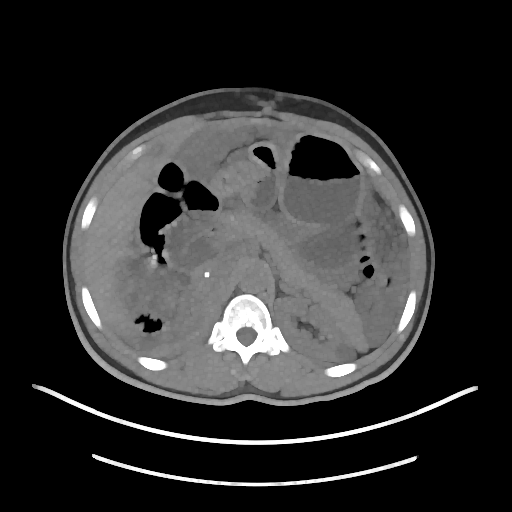Lesion: (333, 339, 359, 364)
